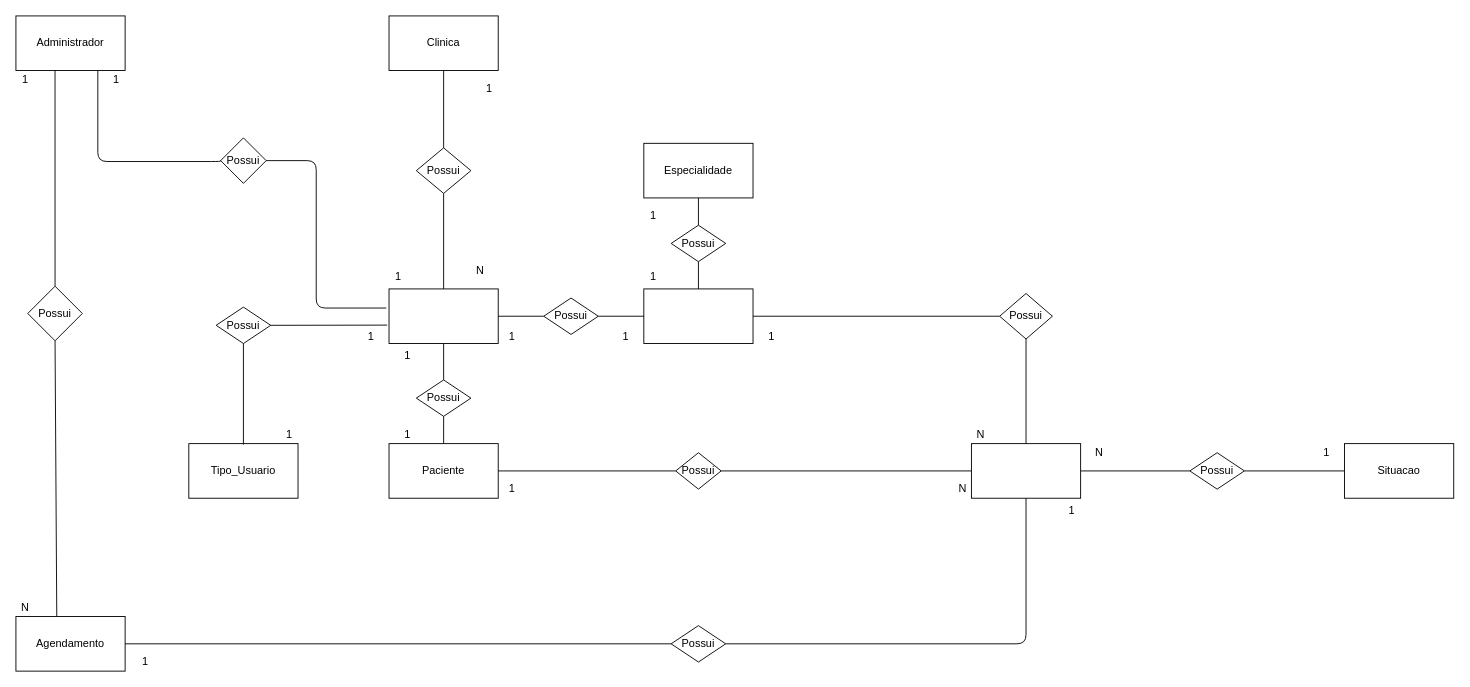
Some shapes in this 1470 by 687 pixel diagram are drawn without their labels. The centre of each missing label's shape, as x and y in pixels:
Consulta: the point at 1026,470
Medico: the point at 698,316
Usuario: the point at 443,316
